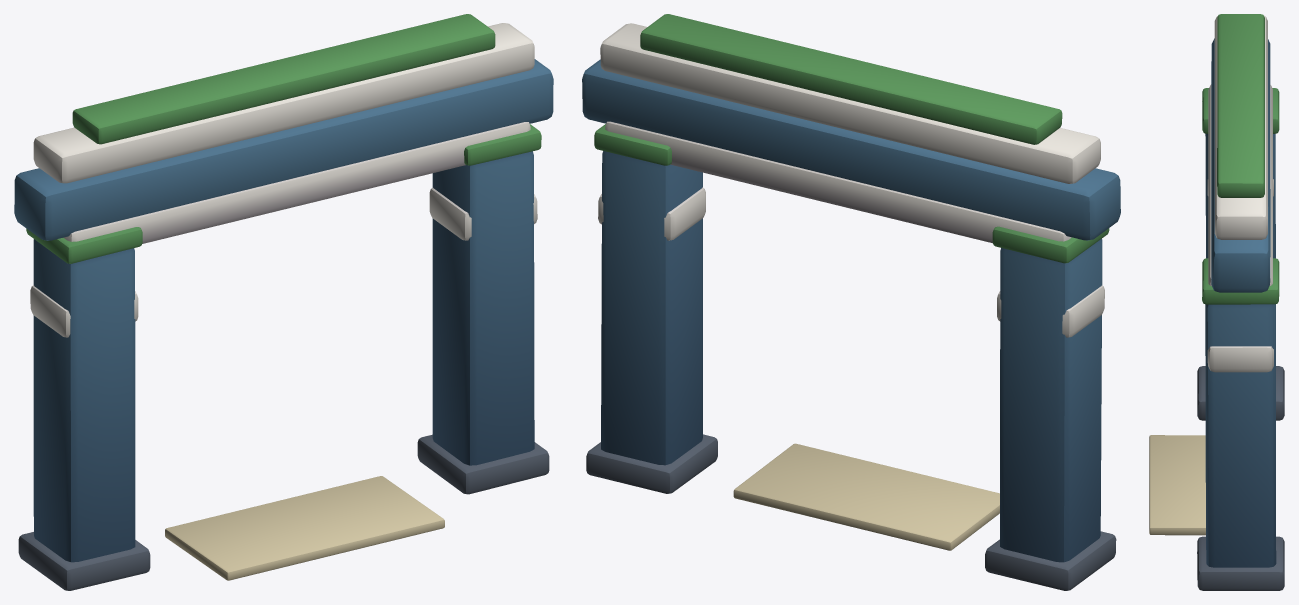
3 views of the same model, side by side, from view 1: azimuth 30°, elevation 25°; view 2: azimuth 150°, elevation 25°; view 3: azimuth 270°, elevation 25° (orthographic). The views are drawn at different scales.
Visible parts, largest first — view 1: gate_f244f930; view 2: gate_f244f930; view 3: gate_f244f930.
Boxes of the visible parts, <box> form: gate_f244f930: <box>14,14,553,590</box>; gate_f244f930: <box>582,14,1120,590</box>; gate_f244f930: <box>1149,14,1284,590</box>.
Bounding box in the file's own units: 5.64 × 4.71 × 1.47.
